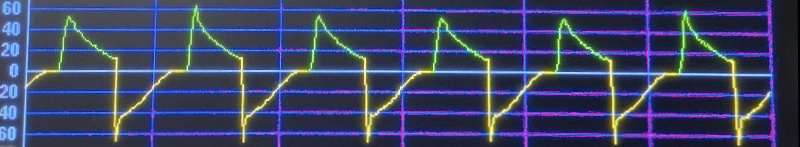normal_flow: (31, 3, 761, 147)
